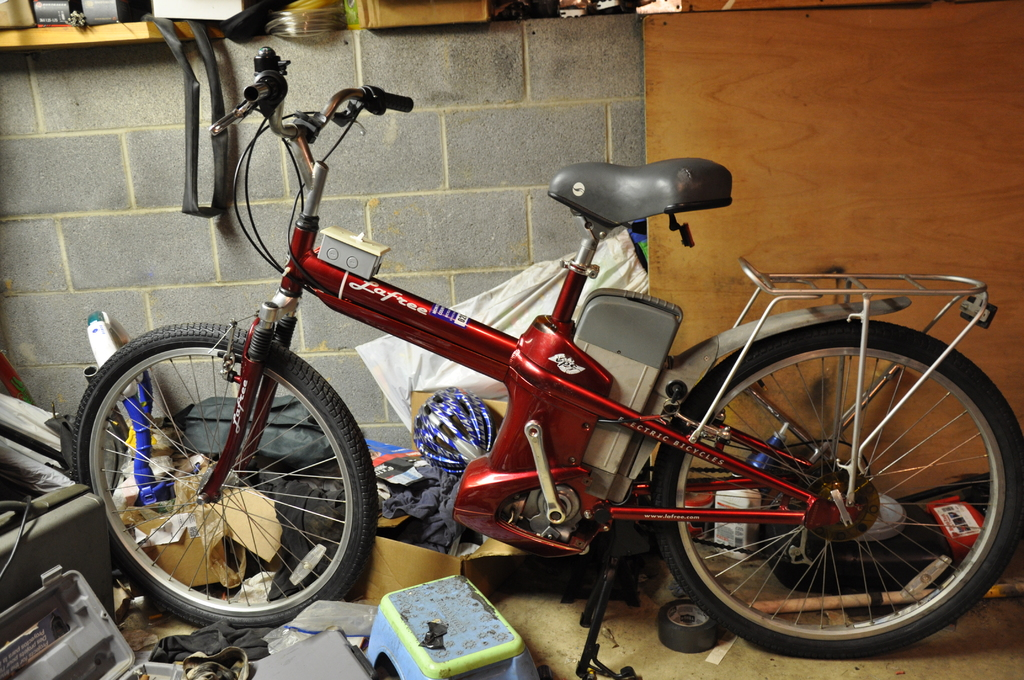Bike_away: (109, 139, 897, 620)
